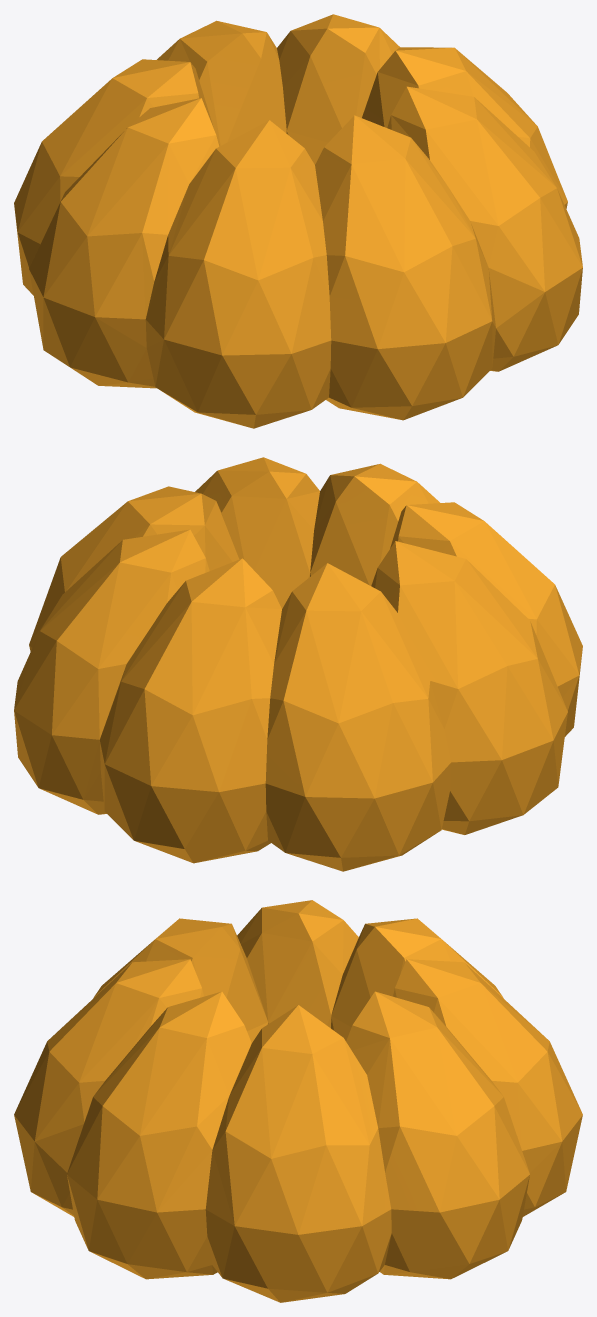
File: fantasy_plant_072.fbx
The picture shows the model from 3 angles, top to bottom: view 1: azimuth 30°, elevation 25°; view 2: azimuth 150°, elevation 25°; view 3: azimuth 270°, elevation 25°; orthographic projection. The views are drawn at different scales.
Parts seen in each view (by area): view 1: fantasy_plant.072; view 2: fantasy_plant.072; view 3: fantasy_plant.072.
Boxes of the visible parts, left/top/right/bottom form: fantasy_plant.072: left=14, top=14, right=582, bottom=428; fantasy_plant.072: left=14, top=457, right=582, bottom=871; fantasy_plant.072: left=14, top=900, right=582, bottom=1302.
Size of the model in its own units: 349 by 171 by 349.
Materials: 1 (1 with a texture image).
